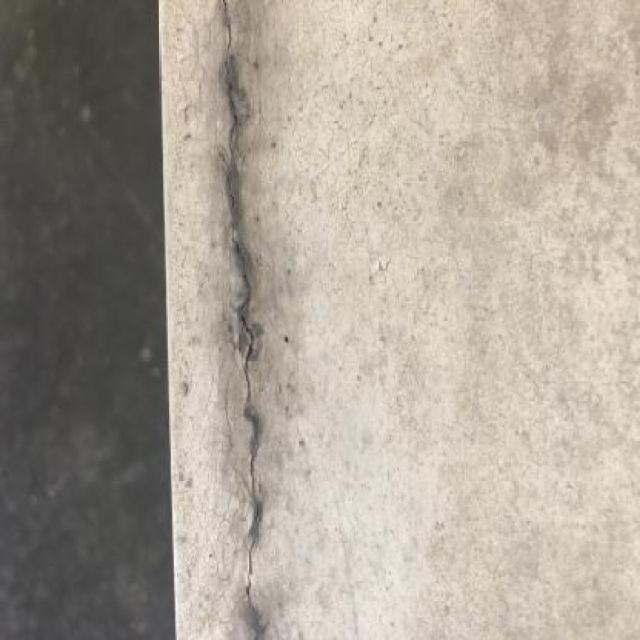vertical crack: (222, 0, 261, 598)
